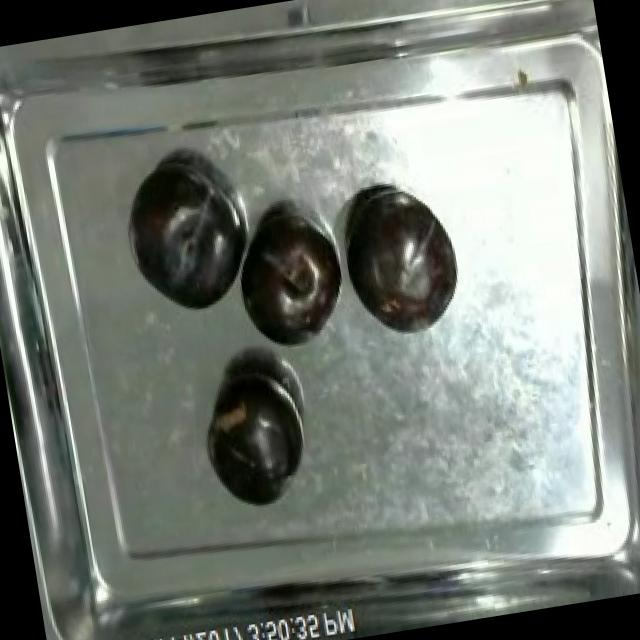Fruit: (332, 174, 473, 350), (116, 154, 258, 323), (226, 206, 352, 354), (195, 362, 307, 508)
